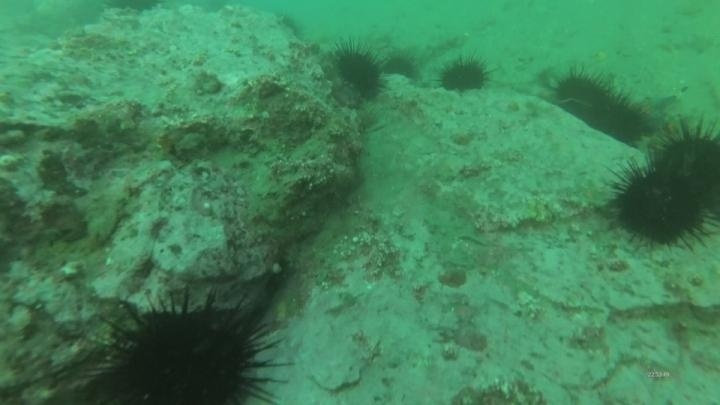echinus: (90, 284, 291, 404), (606, 157, 714, 251), (654, 118, 720, 203), (548, 66, 618, 130), (582, 89, 650, 147), (329, 41, 387, 100), (437, 54, 492, 95), (382, 52, 419, 82)
starfish: (630, 90, 679, 133)
